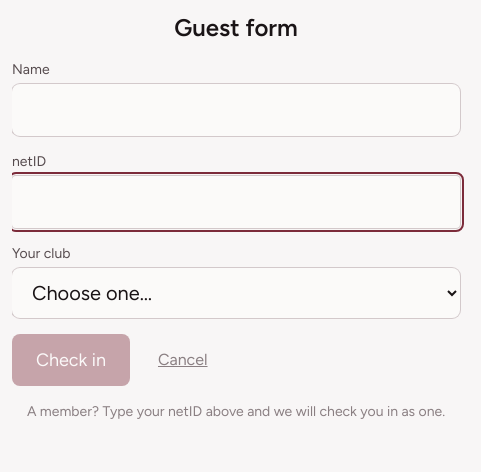
GuestForm › rejects an obvious typo before it costs a round trip
The width and height of the screenshot is (481, 472).
Type "not a netid" into the field named "Guest netID".
click(236, 202); type("not a netid")  # box [12, 176, 460, 228]
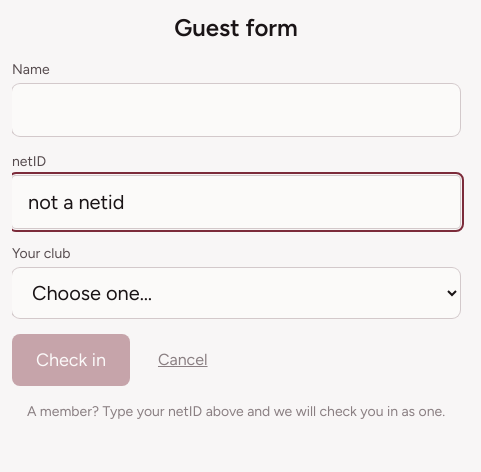
Click the button "Check in".
click(71, 360)  # box [12, 334, 130, 386]
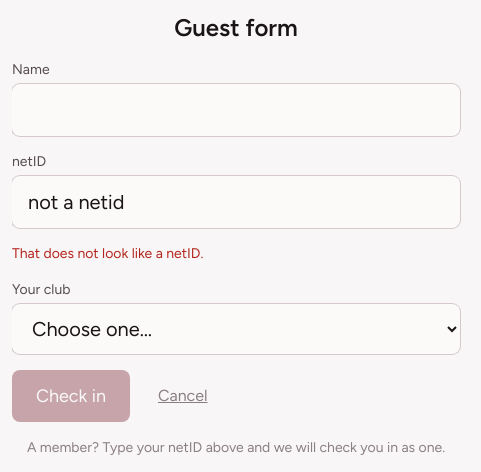
Expected: the message "That does not look like a netID." is shown, [12, 245, 203, 262]
